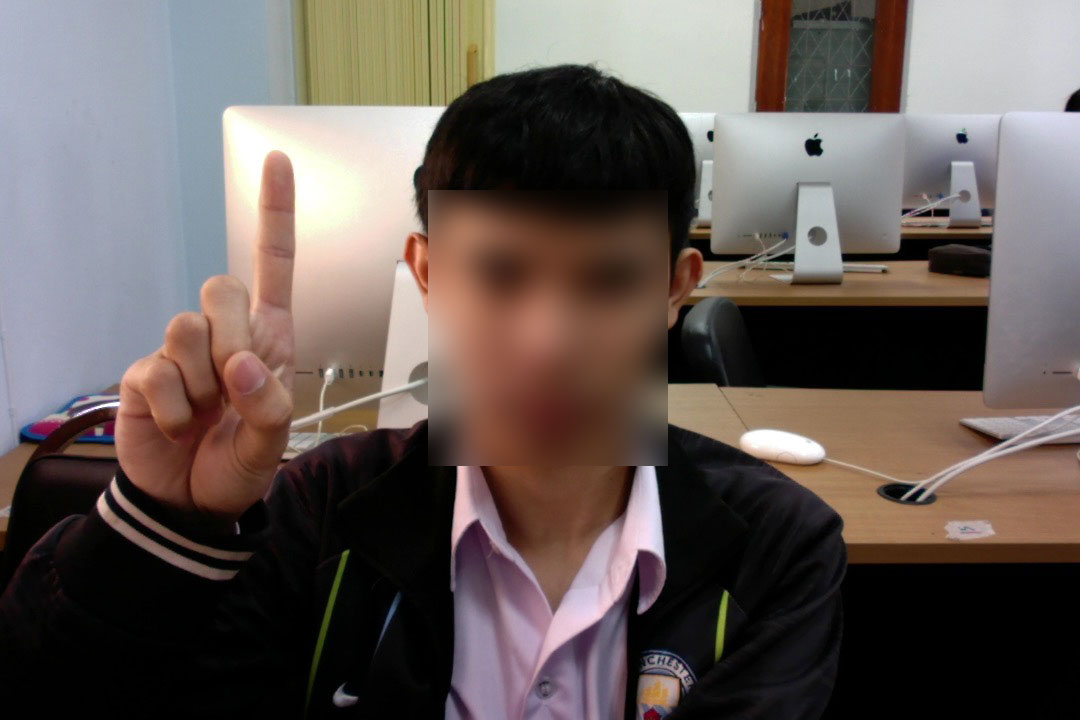dor: (75, 139, 310, 524)
